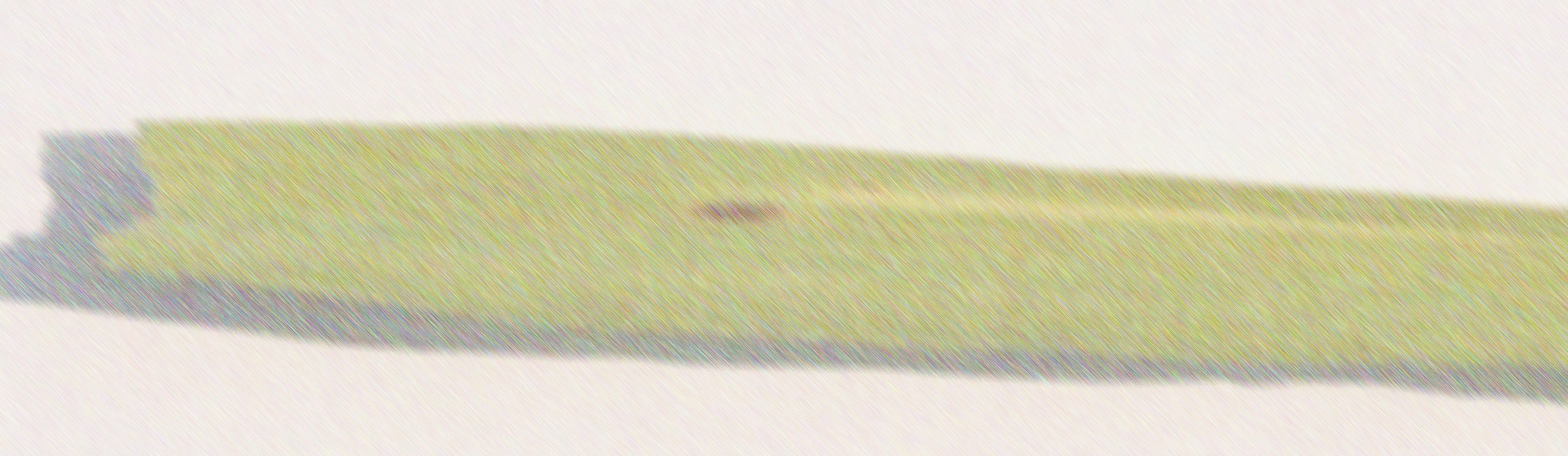Bacterial_Leaf_Blight: (661, 189, 818, 225)
